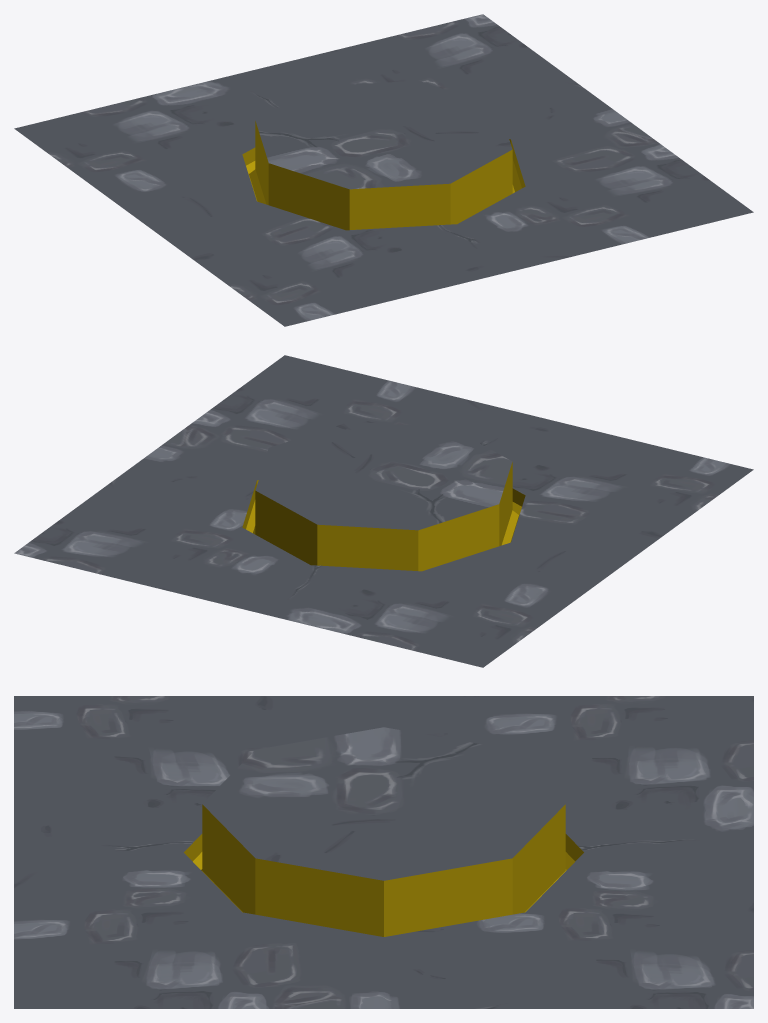
Rendered from Techo_8.fbx.
3 views of the same model, one above another, from view 1: azimuth 30°, elevation 25°; view 2: azimuth 150°, elevation 25°; view 3: azimuth 270°, elevation 25° (orthographic). The views are drawn at different scales.
Parts seen in each view (by area): view 1: Techos7; view 2: Techos7; view 3: Techos7.
Part boxes in pixels (x1,y1,x2,y2): Techos7: (14, 14, 753, 326); Techos7: (14, 355, 753, 667); Techos7: (14, 696, 753, 1008).
Size of the model in its own units: 14 by 1.55 by 14.
